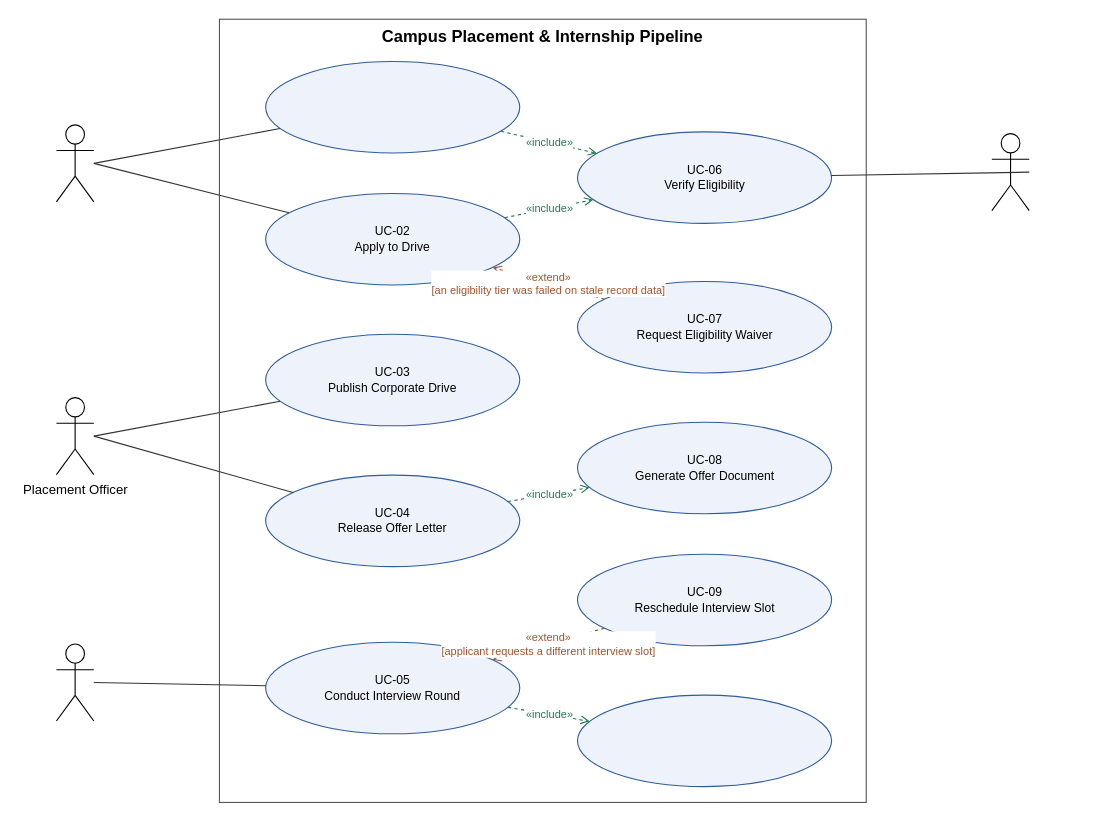
Some shapes in this 1109 by 822 pixel diagram are drawn without their labels. Each missing label, with the centre of its shape:
Academic Records System: point 1010,172
Company Recruiter: point 74,682
Student Applicant: point 74,163
UC-01 Upload & Parse Resume: point 392,106
UC-10 Record Round Outcome: point 704,740
